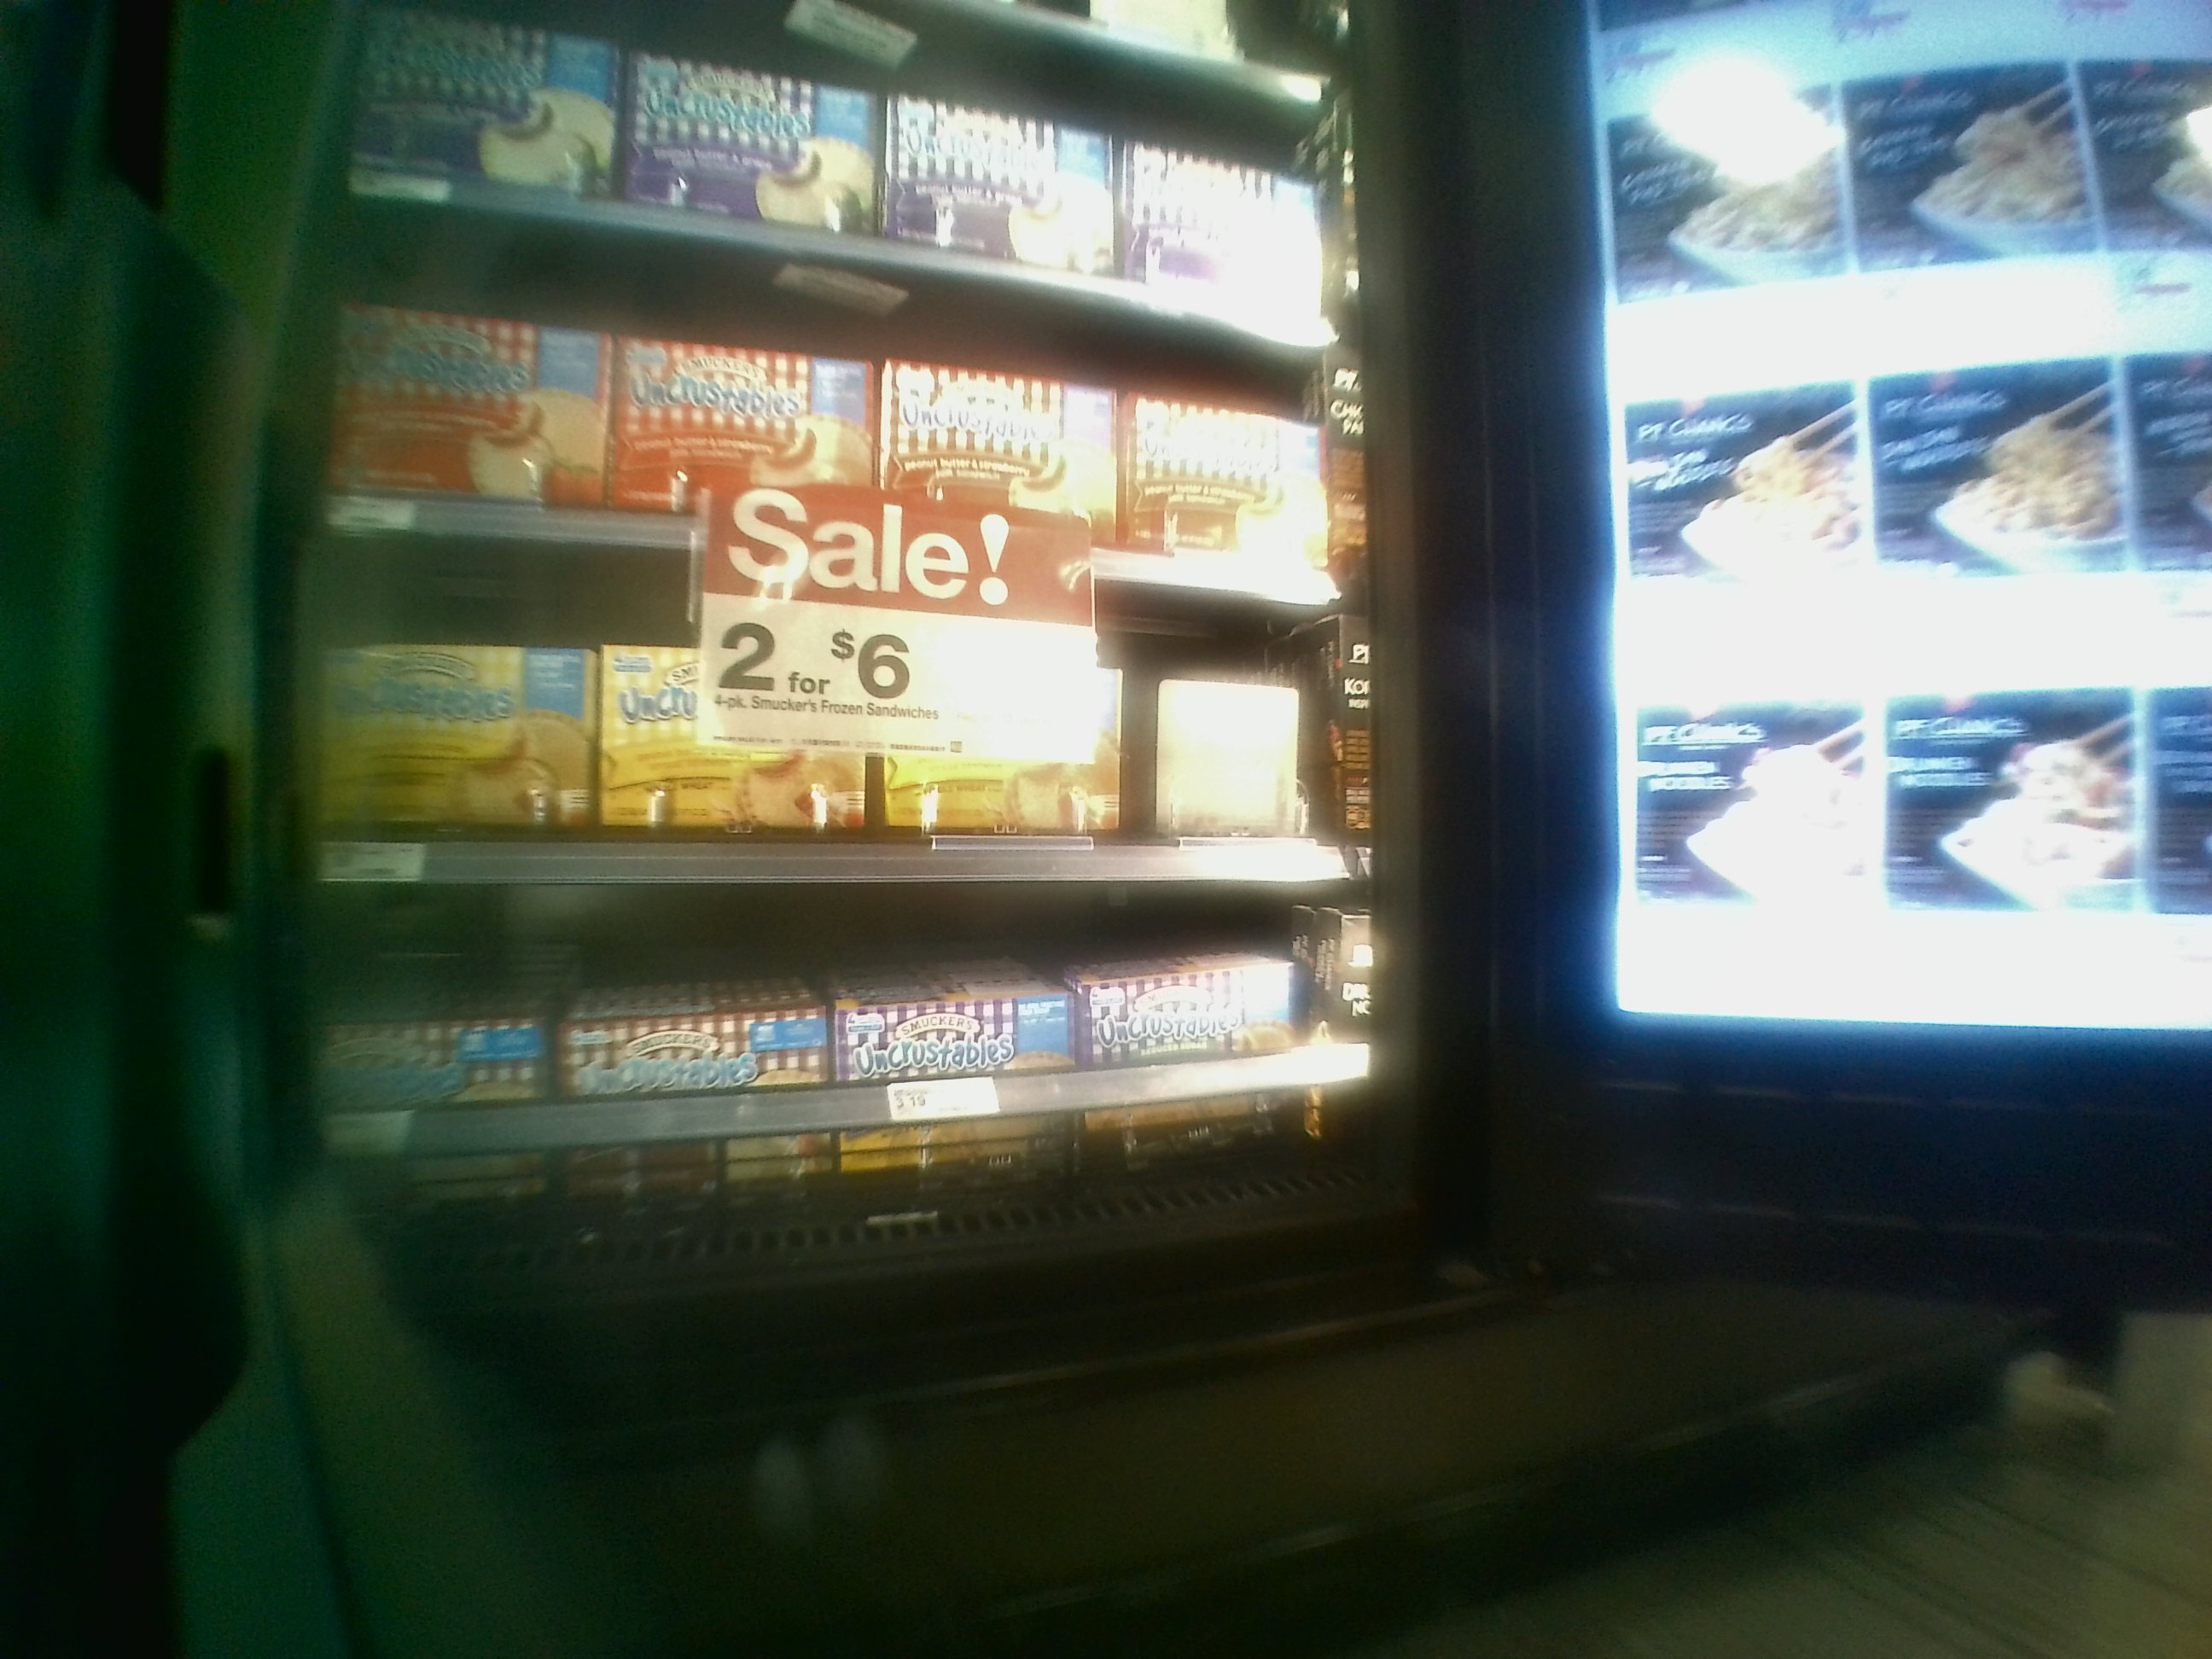shelf: (275, 887, 1357, 1249), (317, 220, 1332, 603), (291, 542, 1352, 894)
